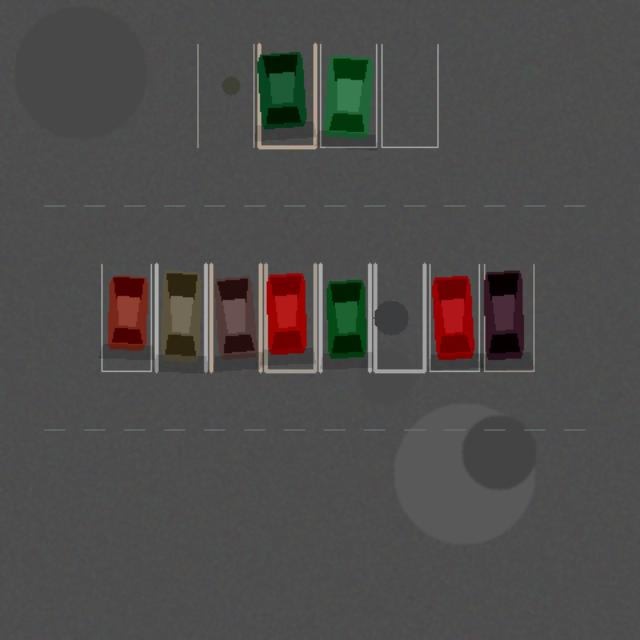space-empty: (197, 44, 253, 147), (381, 44, 437, 147), (375, 264, 424, 371)
space-occupied: (259, 44, 315, 147), (320, 44, 376, 147), (101, 264, 151, 371), (265, 264, 315, 371), (429, 264, 479, 371), (156, 264, 205, 371), (211, 264, 260, 371), (320, 264, 369, 371), (484, 264, 533, 371)
